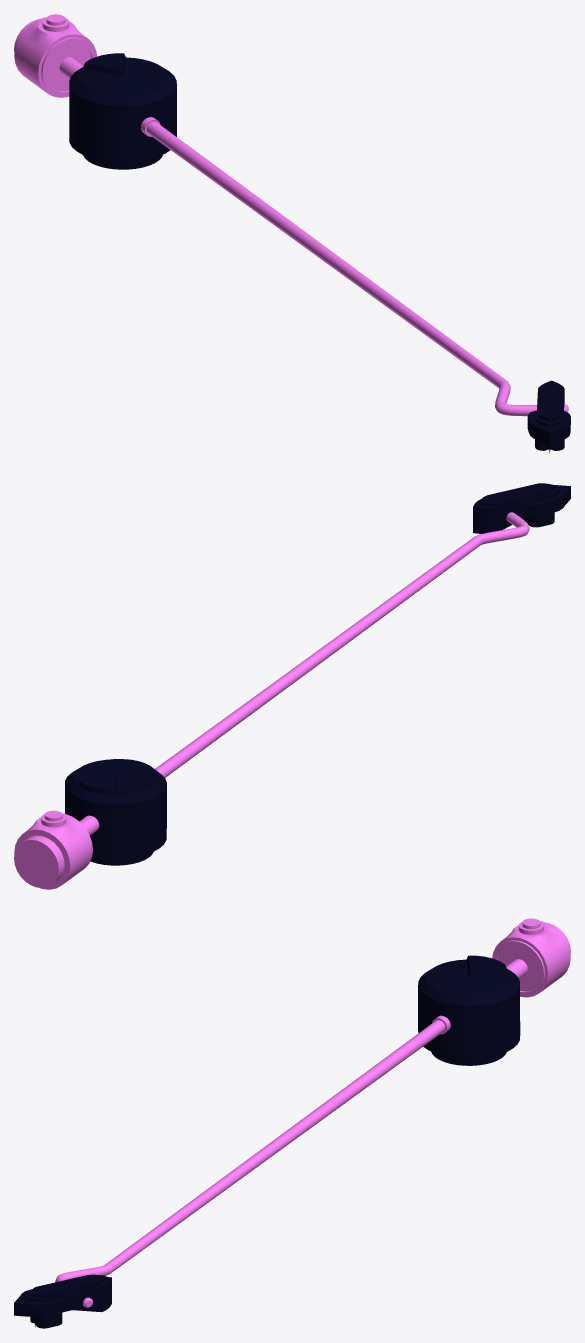
The model's file is Unikko_Arm_B.glb.
3 renders of one model, top to bottom at view 1: azimuth 30°, elevation 25°; view 2: azimuth 150°, elevation 25°; view 3: azimuth 330°, elevation 25°, orthographic. The views are drawn at different scales.
Visible parts, largest first — view 1: Unikko_Arm_B; view 2: Unikko_Arm_B; view 3: Unikko_Arm_B.
Part boxes in pixels (<box>): Unikko_Arm_B: <box>14,14,570,453</box>; Unikko_Arm_B: <box>14,483,570,889</box>; Unikko_Arm_B: <box>14,918,570,1328</box>.
Bounding box in the file's own units: 0.0212 × 0.0186 × 0.2114.
Materials: 2 (1 with a texture image).
